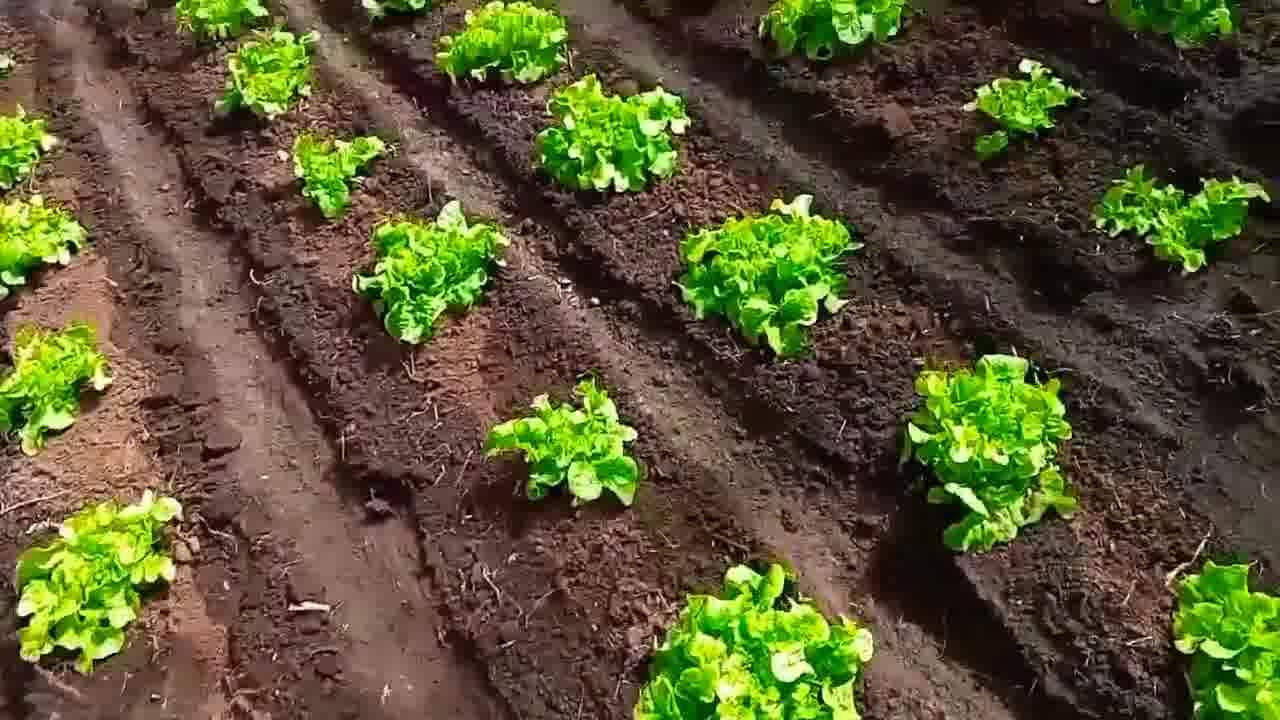Healthy: (630, 568, 875, 720), (906, 346, 1085, 543), (683, 193, 860, 351), (8, 492, 179, 651), (346, 194, 508, 341), (540, 74, 693, 199), (1088, 172, 1266, 272), (491, 387, 637, 505), (1166, 565, 1280, 716), (440, 1, 568, 83), (209, 24, 311, 124), (758, 0, 904, 66), (288, 130, 394, 219), (977, 61, 1075, 157)
